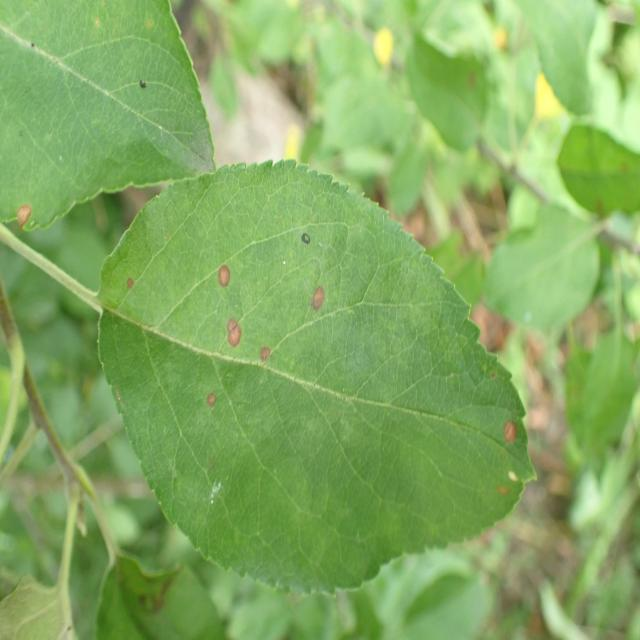Black Rot: (217, 308, 246, 363), (212, 257, 237, 303), (14, 194, 36, 244), (120, 261, 142, 310), (302, 282, 332, 314), (499, 412, 524, 449), (254, 339, 274, 379), (201, 385, 222, 423)
